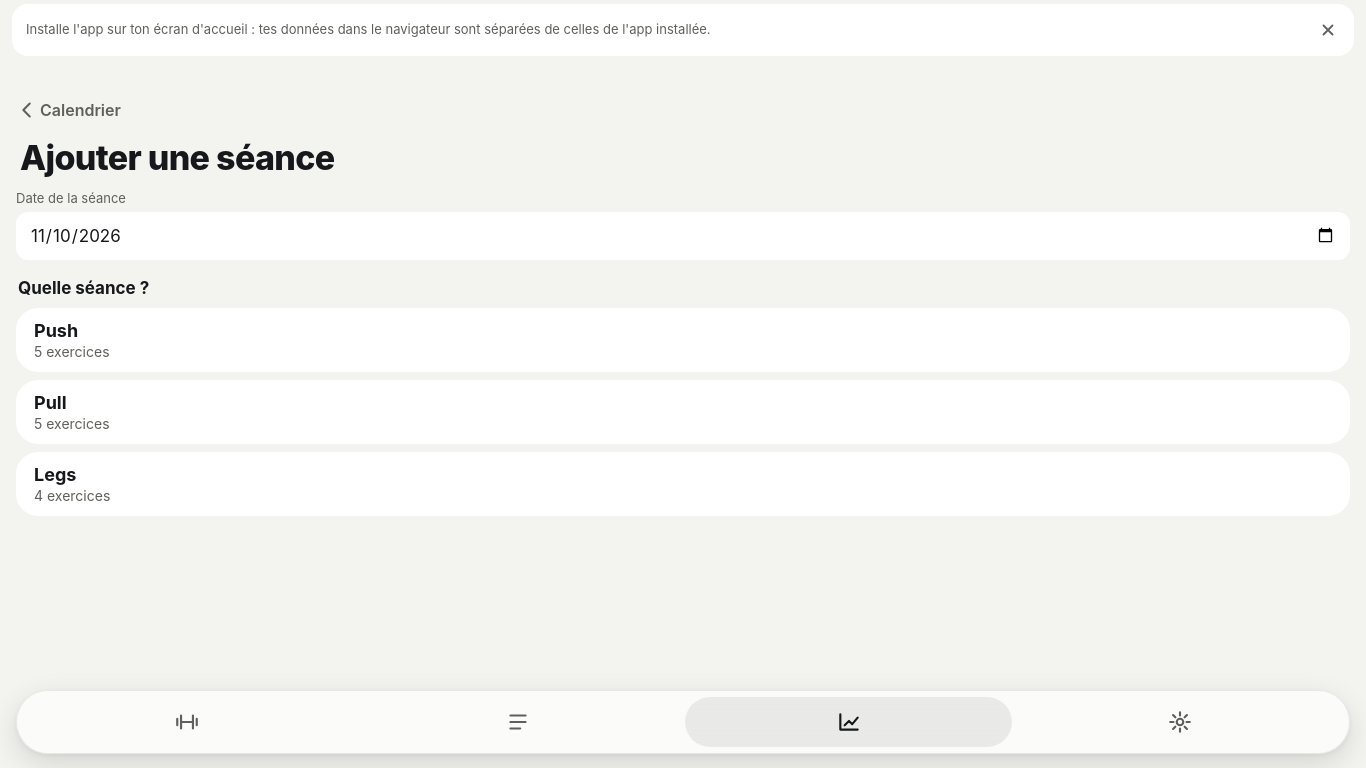
Ajouter une séance oubliée › date effacée : « Choisis une date », rien créé
Clear the date field labelled "Date de la séance": (683, 236) [16,212,1350,260]
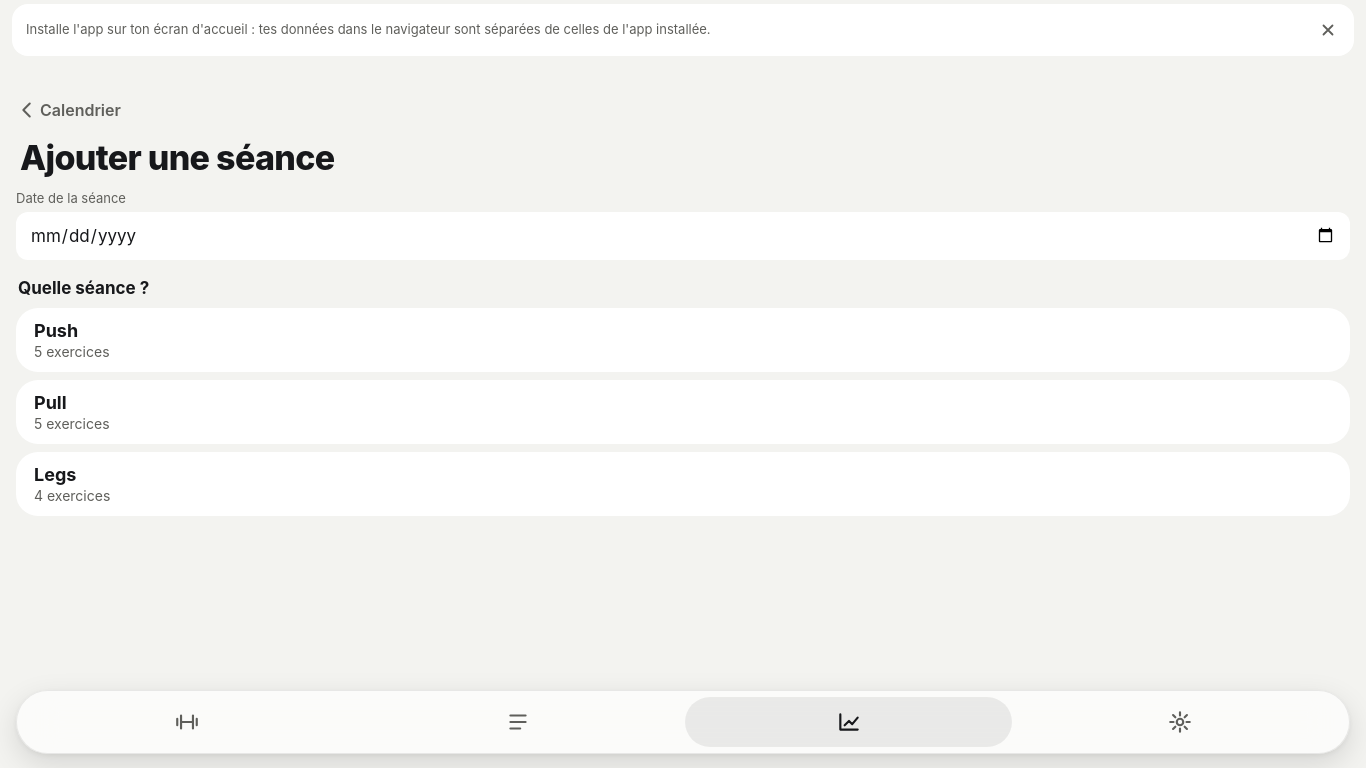
Click the button "Push 5 exercices": (56, 330) [16,308,1350,372]
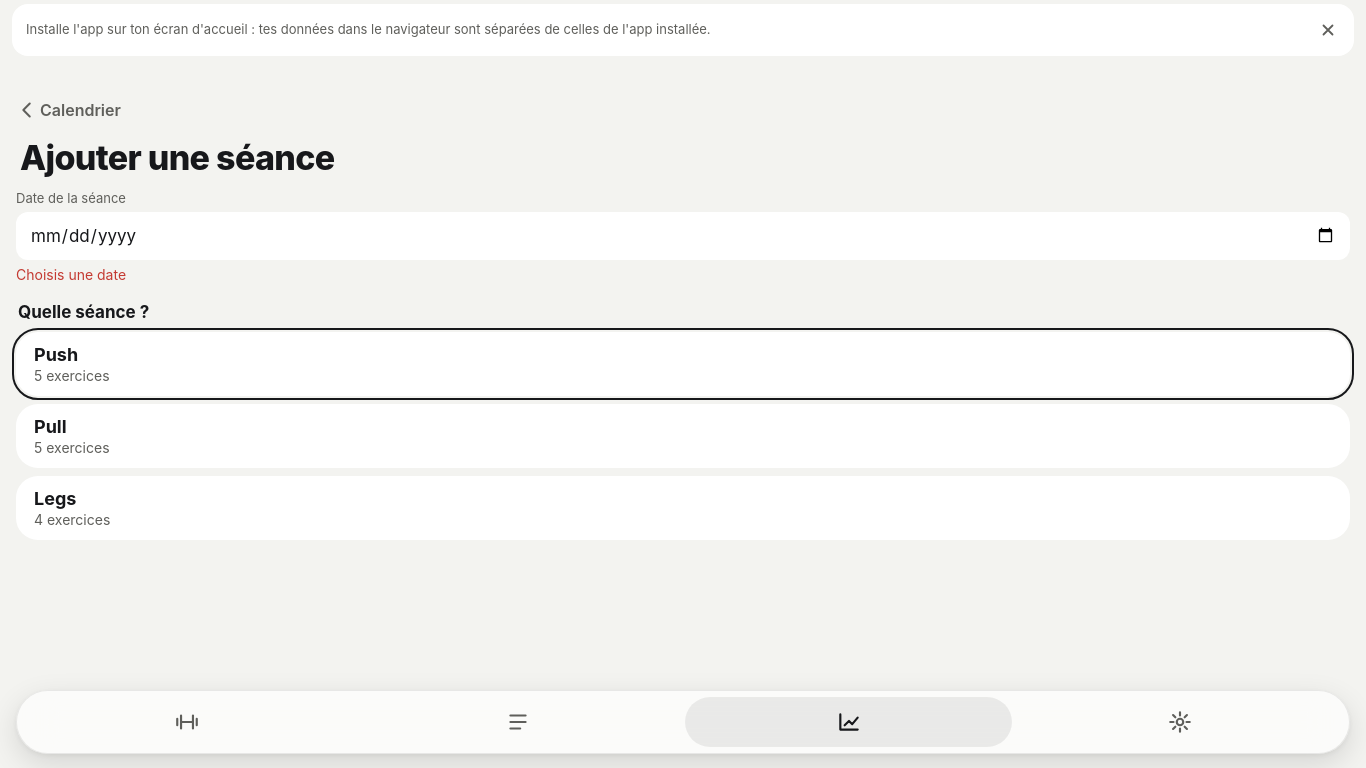
Result: the text "Choisis une date" is shown at [16,266,126,283]
